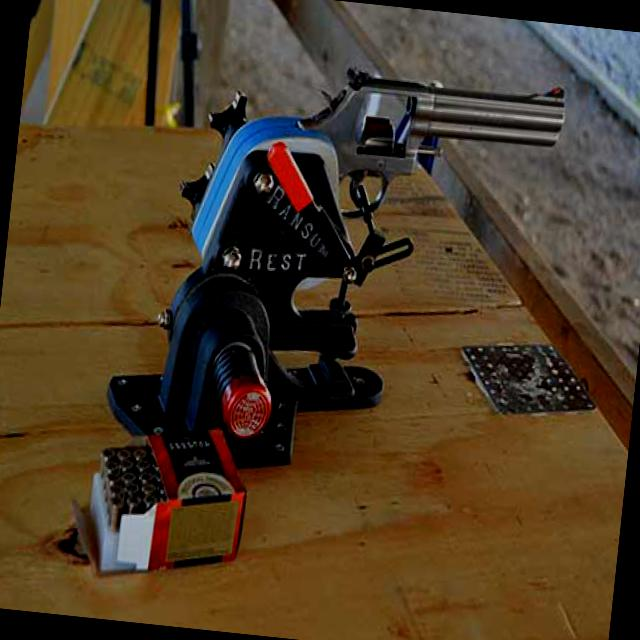handgun: (280, 49, 570, 238)
